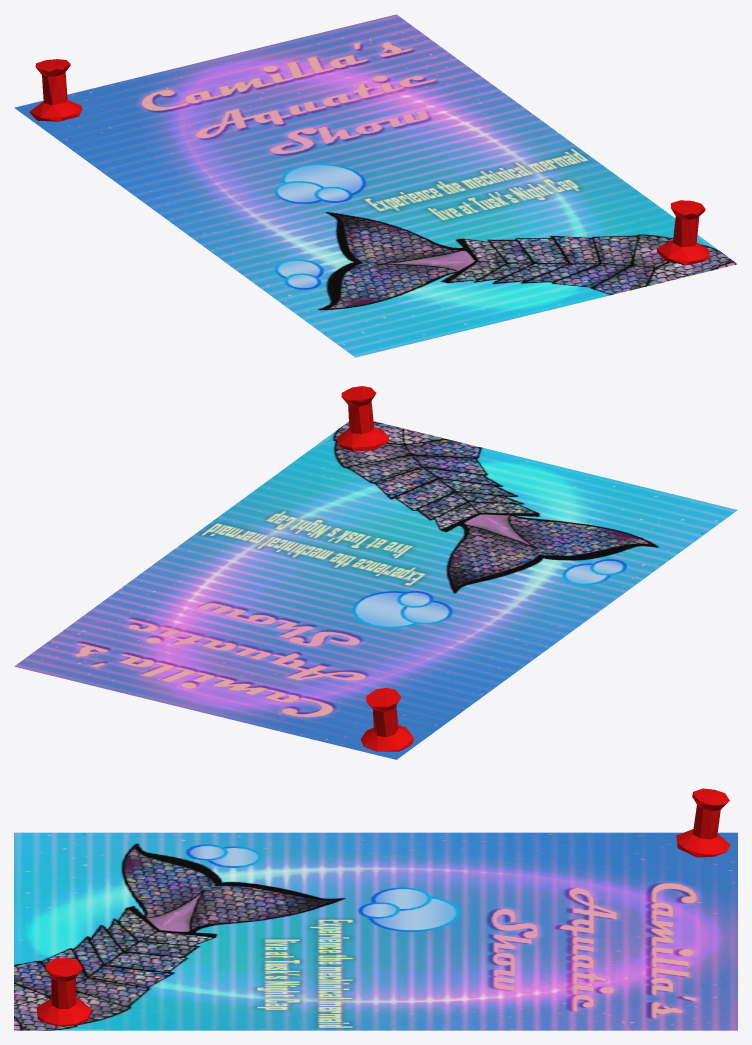
File: posters3.fbx
3 renders of one model, top to bottom at view 1: azimuth 30°, elevation 25°; view 2: azimuth 150°, elevation 25°; view 3: azimuth 270°, elevation 25°, orthographic. The views are drawn at different scales.
Visible parts, largest first — view 1: Poster_3, Cylinder.001; view 2: Poster_3, Cylinder.001; view 3: Poster_3, Cylinder.001.
Part boxes in pixels (x1,y1,x2,y2): Poster_3: [14, 14, 737, 357]; Cylinder.001: [29, 59, 709, 265]; Poster_3: [14, 421, 737, 759]; Cylinder.001: [336, 386, 413, 751]; Poster_3: [14, 832, 737, 1030]; Cylinder.001: [36, 788, 730, 1026].
Size of the model in its own units: 64.71 by 8.64 by 100.
